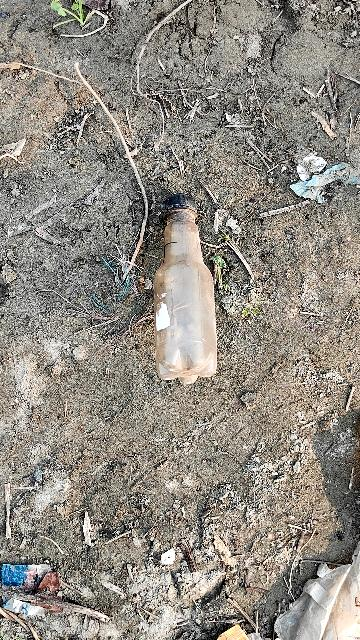bottle: (153, 190, 223, 386)
